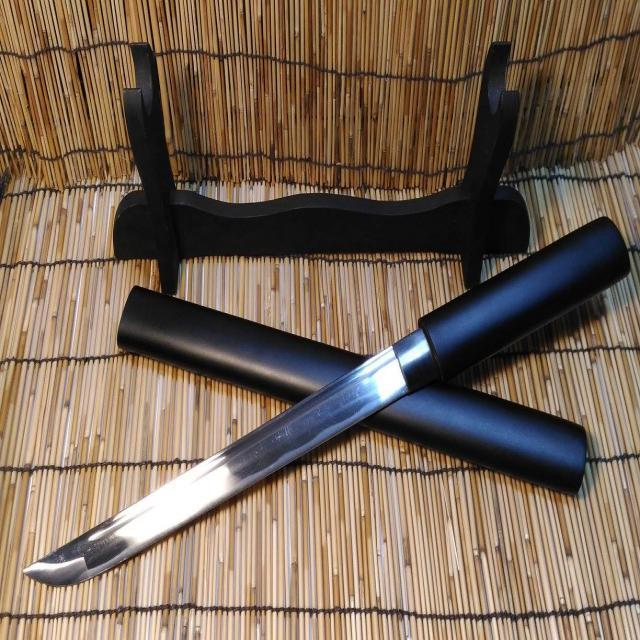short sword: (22, 240, 636, 592)
